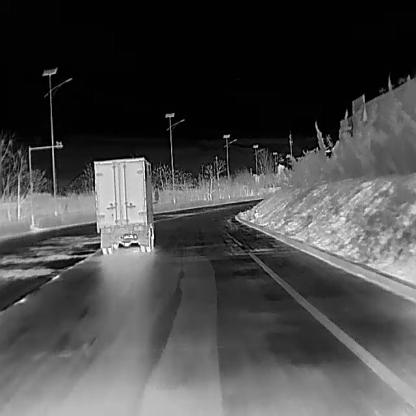truck: (92, 154, 159, 254)
